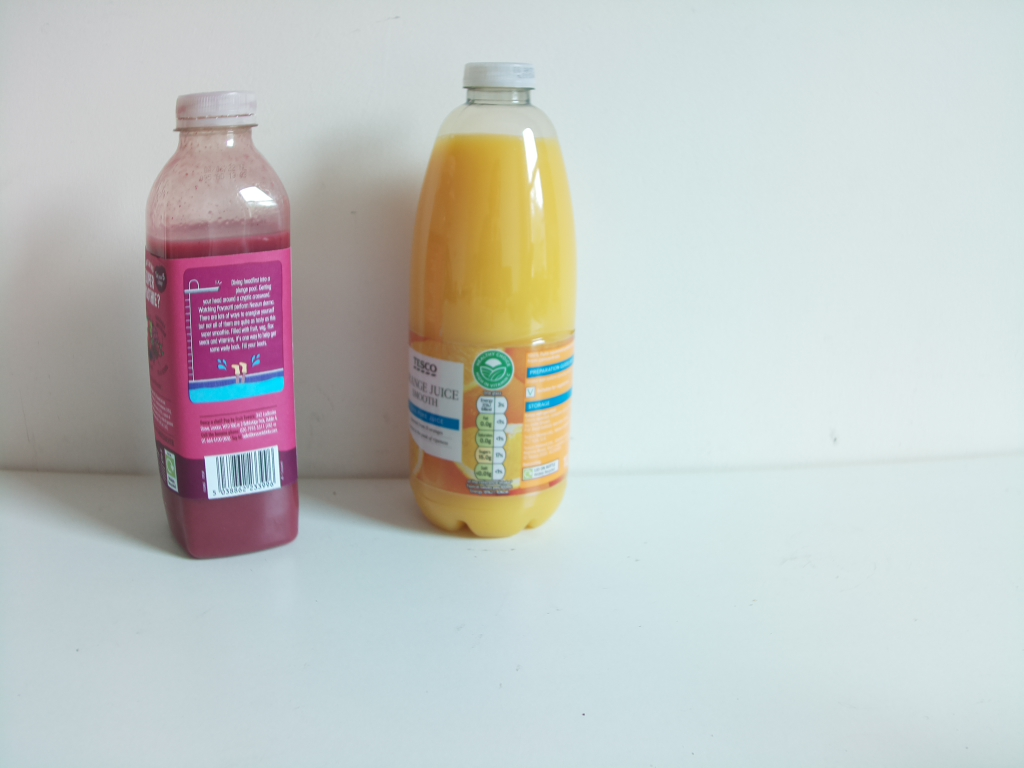juice: (396, 56, 577, 538), (140, 84, 305, 563)
